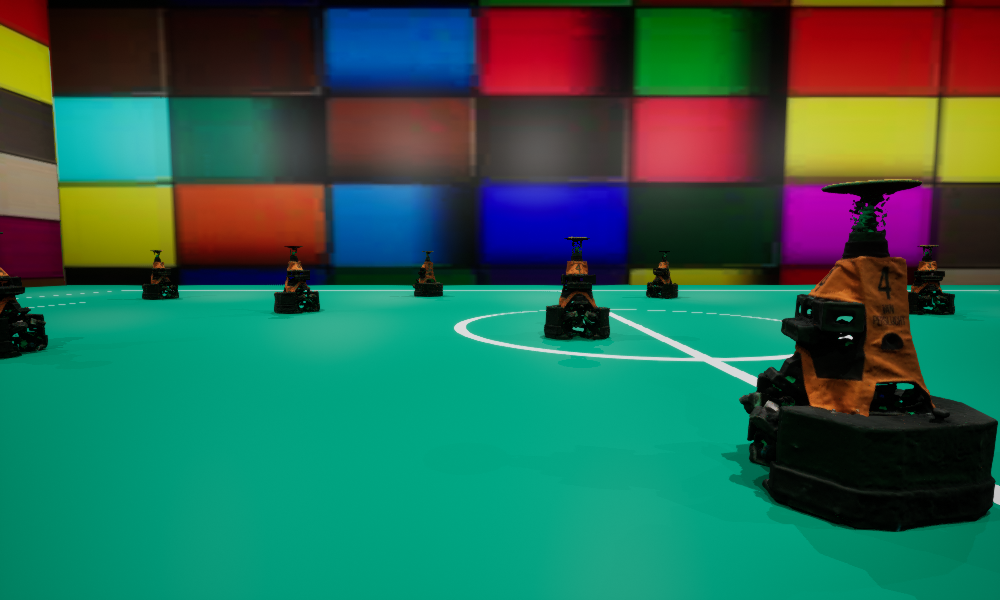0 orange robot TechUnited: (739, 179, 997, 530), (544, 237, 609, 339), (0, 232, 47, 358), (908, 245, 954, 313), (274, 246, 319, 313), (142, 250, 178, 299), (646, 251, 677, 297), (412, 251, 442, 296)
